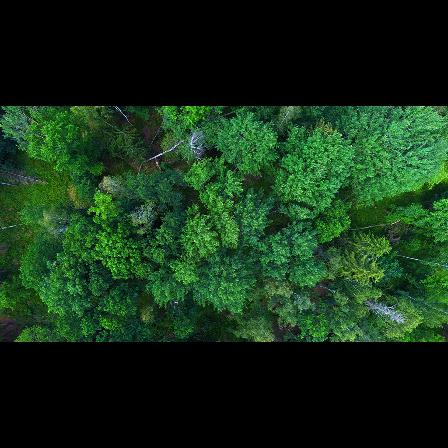Dead: (364, 296, 407, 325), (181, 129, 209, 164), (95, 172, 126, 196)
